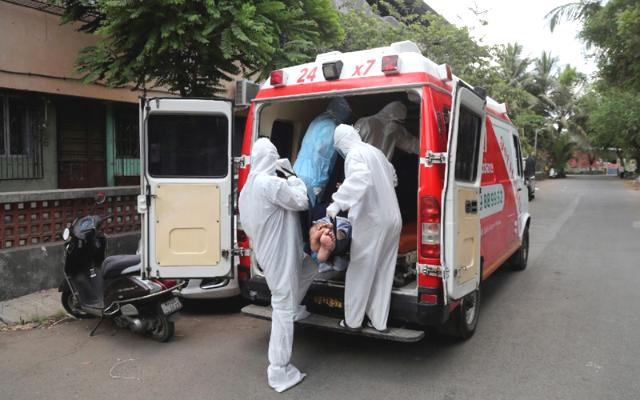ambulance: (138, 42, 530, 341)
